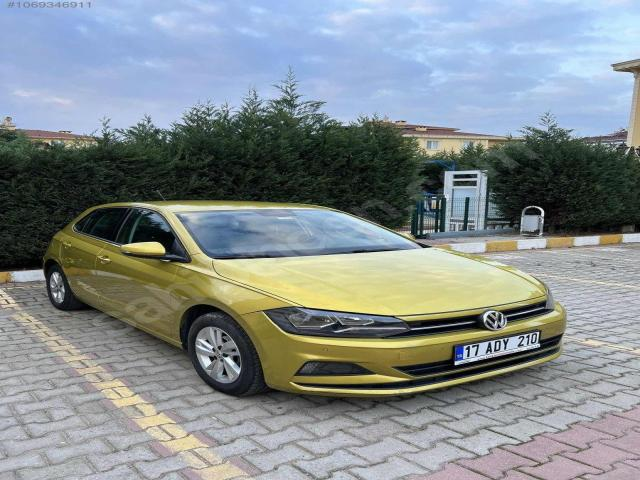plaka: (454, 330, 540, 365)
